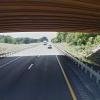Bridge: (2, 2, 95, 39)
